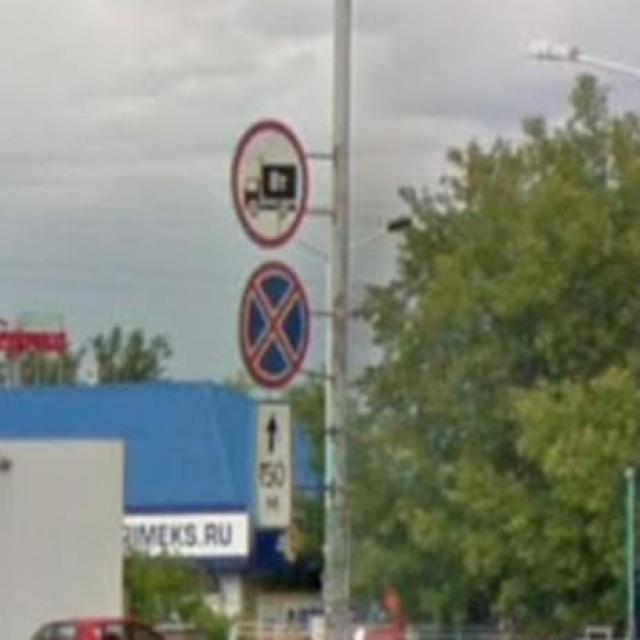traffic_sign: (228, 115, 314, 252), (236, 256, 312, 393)
